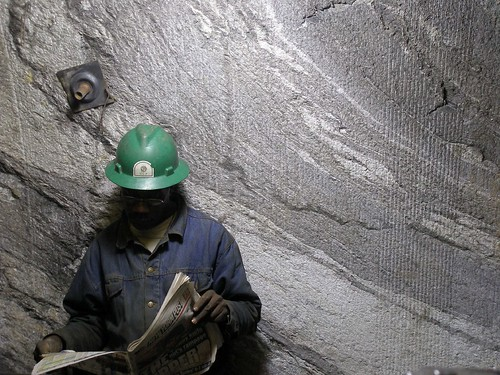person hardhat: (60, 126, 267, 375)
